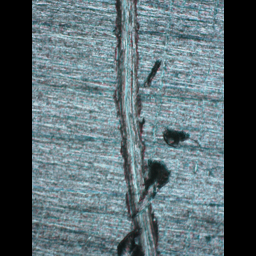d: (103, 0, 196, 255)
